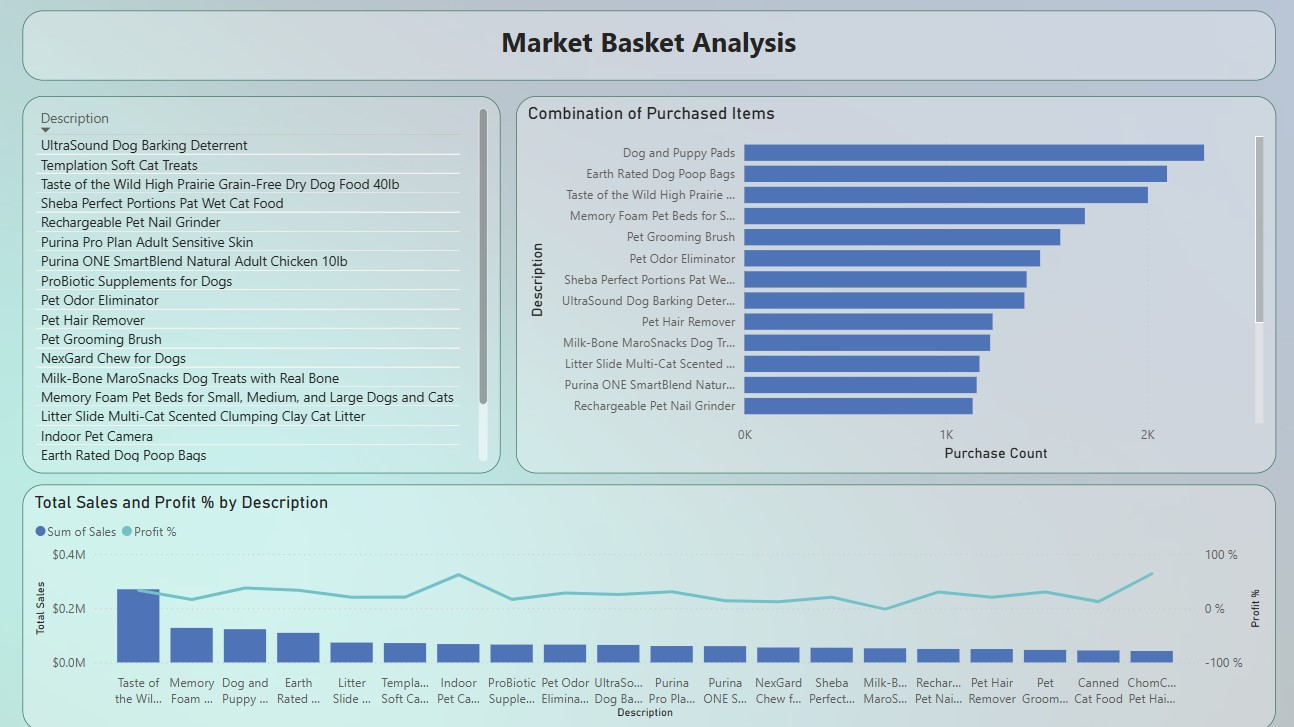

The dashboard page shown, as its layout file describes it:
{"tool":"powerbi","page":{"name":"Market Basket Analysis","canvas":[1280,720],"ordinal":2},"visuals":[{"type":"tableEx","fields":{"Values":["Sales.Description"]},"box":[25,96.7,468.3,370],"z":0},{"type":"barChart","title":"Combination of Purchased Items","fields":{"Category":["Market Basket.Description"],"Y":["CountNonNull(Market Basket.Description)"]},"box":[508.3,96.7,745,370],"z":1000},{"type":"lineStackedColumnComboChart","title":"Total Sales and Profit % by Description","fields":{"Category":["Products.Description"],"Y":["Sum(Sales.Sales)"],"Y2":["New_Measures.Profit %"]},"box":[25,478.3,1228.3,241.7],"z":2000},{"type":"textbox","box":[25,13.3,1228.3,68.3],"z":3000}]}

Visuals, with their boxes in screenshot pixels (x1, y1, x2, y2), scaled from the page's 1280x720 canvas onto the 1294x727 screenshot:
tableEx - Sales.Description: [left=25, top=98, right=499, bottom=471]
"Combination of Purchased Items" barChart: [left=514, top=98, right=1267, bottom=471]
"Total Sales and Profit % by Description" lineStackedColumnComboChart: [left=25, top=483, right=1267, bottom=726]
textbox: [left=25, top=13, right=1267, bottom=82]
